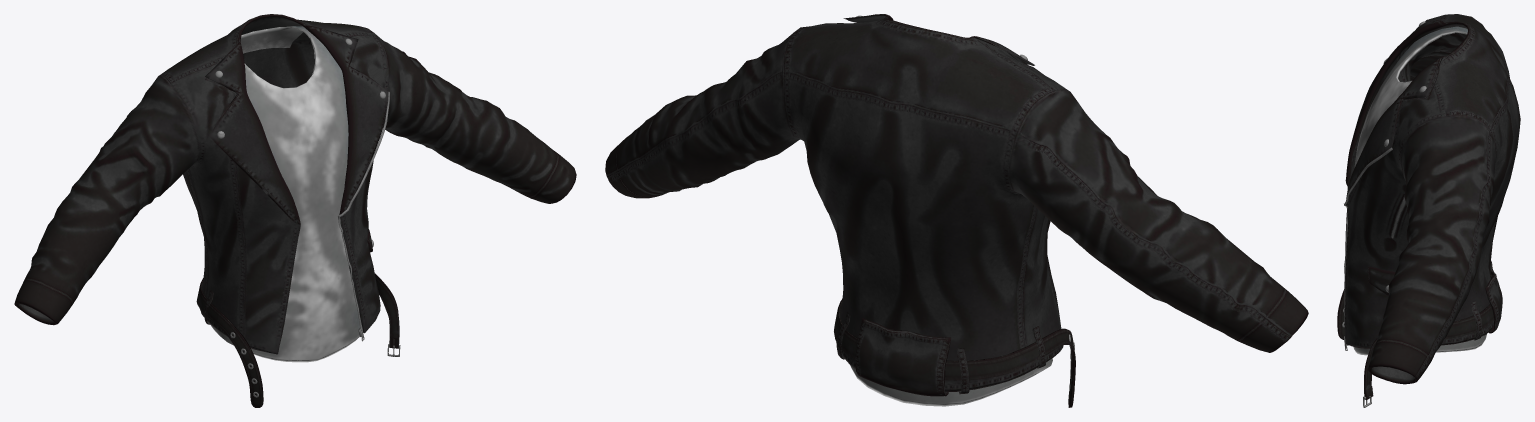
Rendered from leather_jacket copia.glb.
The picture shows the model from 3 angles, left to right: view 1: azimuth 30°, elevation 25°; view 2: azimuth 150°, elevation 25°; view 3: azimuth 270°, elevation 25°; orthographic projection. The views are drawn at different scales.
Visible parts, largest first — view 1: jacket_low, Shirt_low, Belt_low; view 2: jacket_low, LeatherBacking_low, Belt_low, Shirt_low, BeltLoops_low; view 3: jacket_low, Shirt_low, Belt_low, LeatherBacking_low, Pocket_low, BeltLoops_low.
Part boxes in pixels (x1,y1,x2,y2): jacket_low: (14,14,576,354); Shirt_low: (210,26,359,362); Belt_low: (196,273,399,407); jacket_low: (605,14,1308,391); LeatherBacking_low: (855,318,951,396); Belt_low: (834,299,1075,407); Shirt_low: (850,358,1052,406); BeltLoops_low: (836,298,1046,394); jacket_low: (1343,14,1520,384); Shirt_low: (1353,26,1486,355); Belt_low: (1337,274,1494,399); LeatherBacking_low: (1485,261,1502,333); Pocket_low: (1367,266,1395,295); BeltLoops_low: (1471,300,1482,340).
Bounding box in the file's own units: 2 × 1.15 × 0.5585.
Materials: 1 (1 with a texture image).
